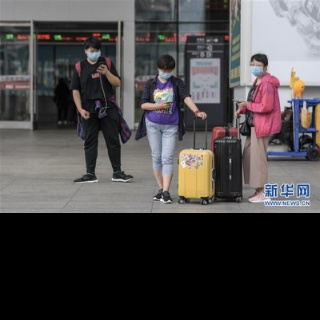with_mask: (250, 59, 264, 77), (86, 48, 101, 63), (160, 67, 173, 81)
